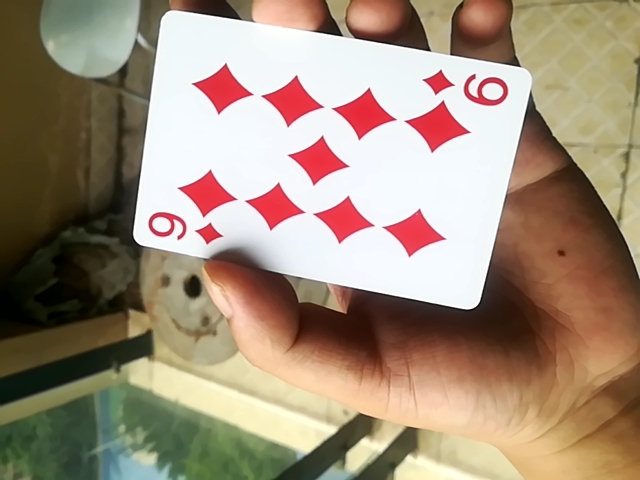fk 9: (127, 5, 530, 314)
